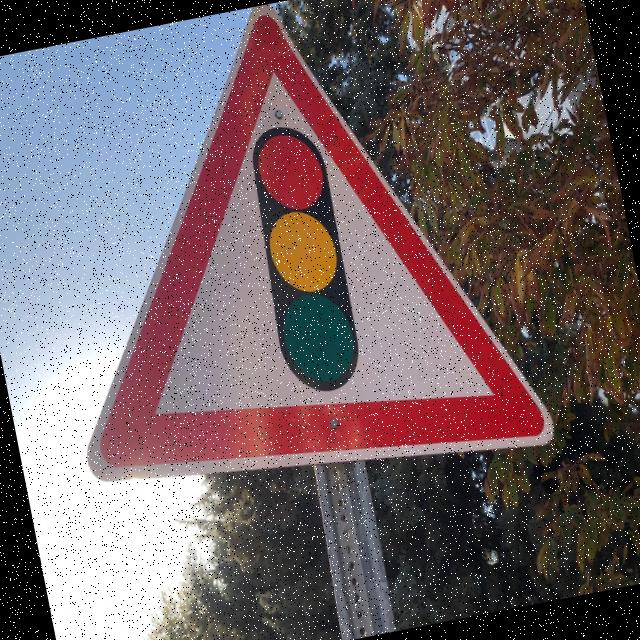light_traffic: (10, 0, 571, 530)
